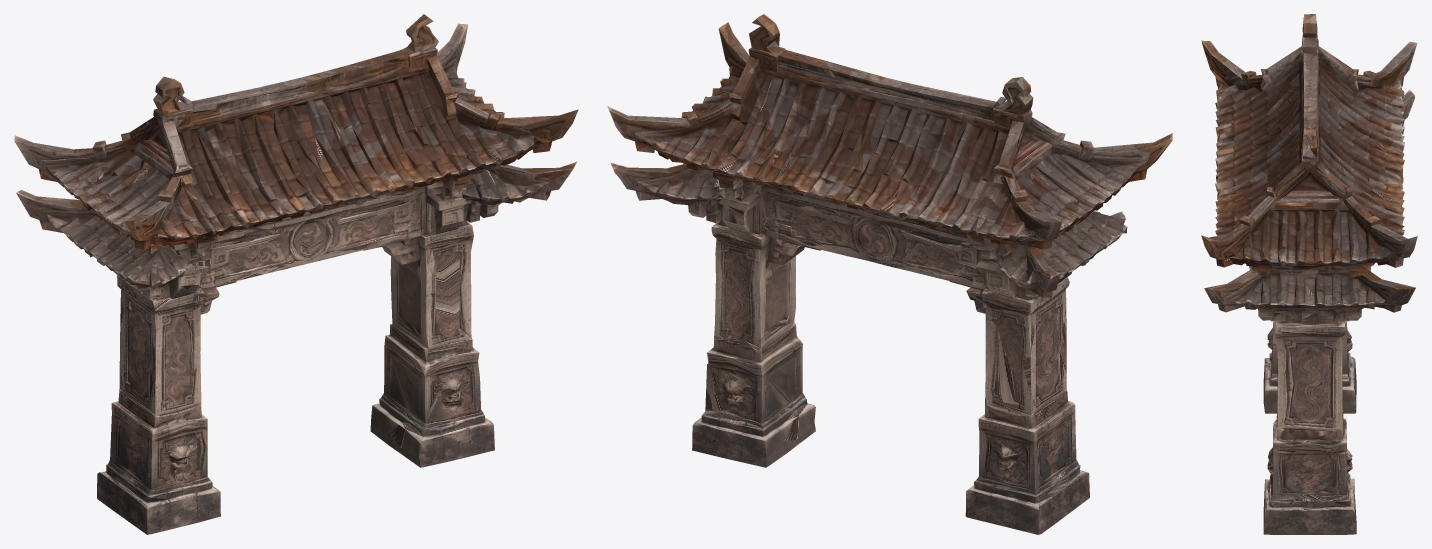
The model's file is prop_stone_gate.21e20661.glb.
The picture shows the model from 3 angles, left to right: view 1: azimuth 30°, elevation 25°; view 2: azimuth 150°, elevation 25°; view 3: azimuth 270°, elevation 25°; orthographic projection. The views are drawn at different scales.
Visible parts, largest first — view 1: tripo_node_fa5aceef-7efc-41eb-8a28-bc6178c7ec4c; view 2: tripo_node_fa5aceef-7efc-41eb-8a28-bc6178c7ec4c; view 3: tripo_node_fa5aceef-7efc-41eb-8a28-bc6178c7ec4c.
Part boxes in pixels (x1,y1,x2,y2): tripo_node_fa5aceef-7efc-41eb-8a28-bc6178c7ec4c: [14, 14, 578, 534]; tripo_node_fa5aceef-7efc-41eb-8a28-bc6178c7ec4c: [607, 14, 1172, 534]; tripo_node_fa5aceef-7efc-41eb-8a28-bc6178c7ec4c: [1201, 14, 1417, 534].
Size of the model in its own units: 10.04 by 9 by 4.57.
1 material, 1 textured.
